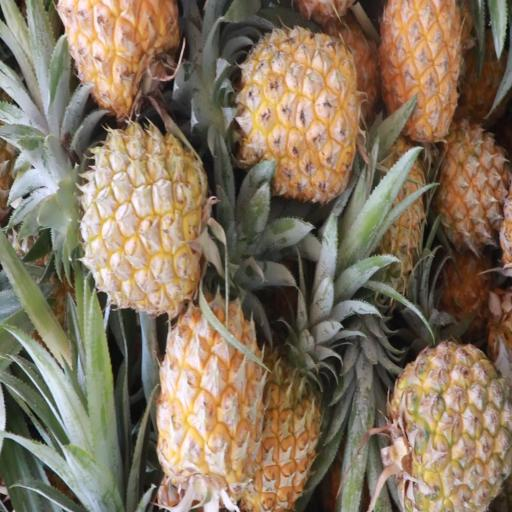------------------------------: (371, 328, 512, 512)
Pineapple - v8 v1: (154, 270, 265, 512), (68, 128, 208, 317), (233, 245, 331, 512), (218, 35, 361, 203), (422, 117, 504, 260), (367, 0, 453, 131)
